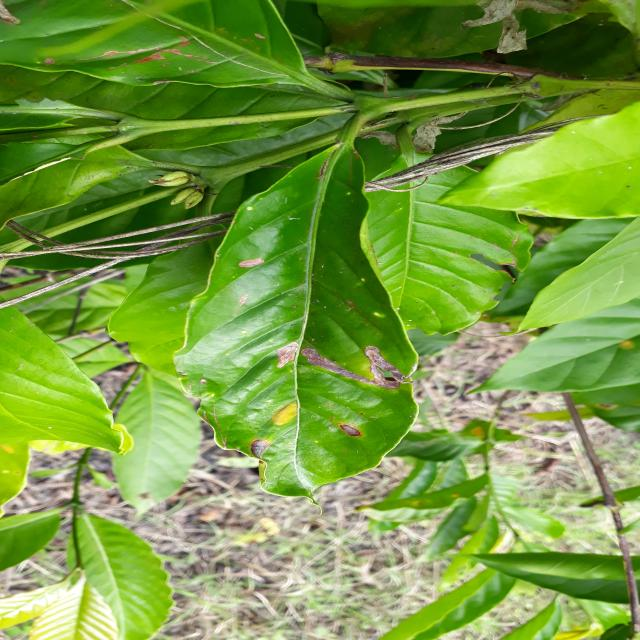Enfermedad-Roya: (174, 137, 421, 497)
